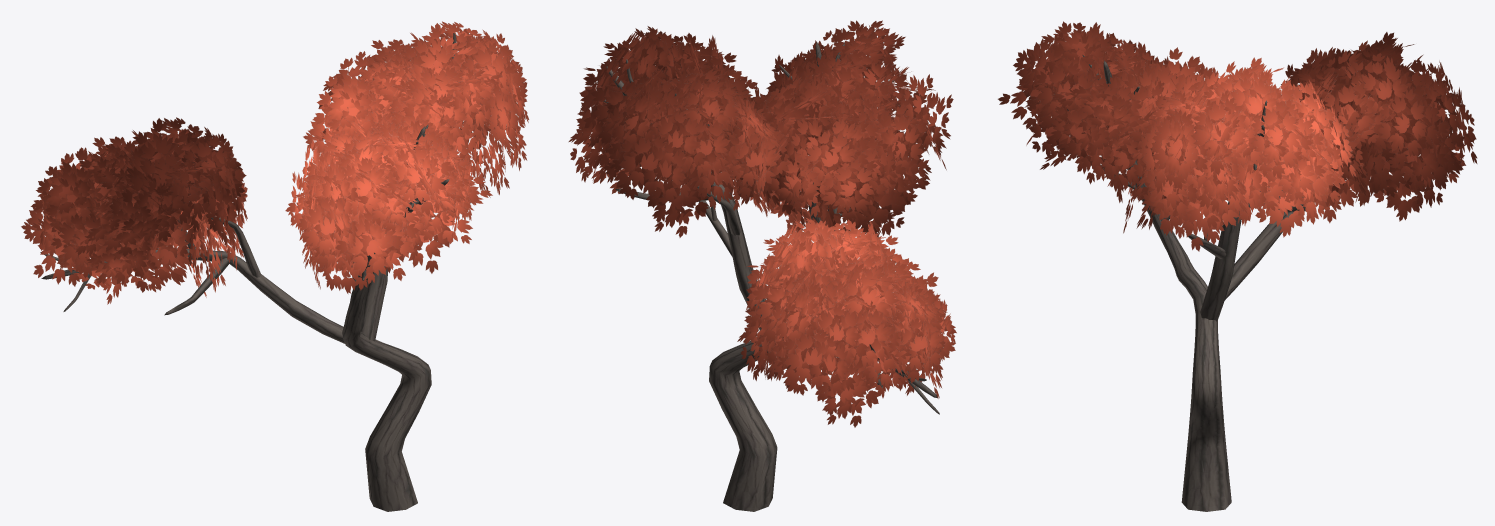
The model's file is MapleTree_2.glb.
The picture shows the model from 3 angles, left to right: view 1: azimuth 30°, elevation 25°; view 2: azimuth 150°, elevation 25°; view 3: azimuth 270°, elevation 25°; orthographic projection. The views are drawn at different scales.
Parts seen in each view (by area): view 1: MapleTree_2; view 2: MapleTree_2; view 3: MapleTree_2.
Part boxes in pixels (x1=…): MapleTree_2: x1=21, y1=21, x2=529, y2=511; MapleTree_2: x1=568, y1=20, x2=956, y2=511; MapleTree_2: x1=998, y1=21, x2=1477, y2=511.
Bounding box in the file's own units: 6.7 × 6.71 × 6.24.
Materials: 2 (2 with a texture image).
